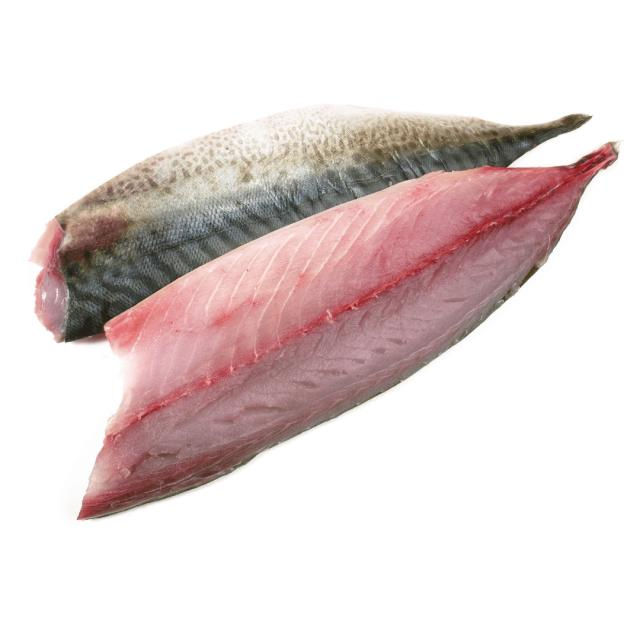Mackerel: (79, 144, 616, 519), (31, 105, 589, 341)
